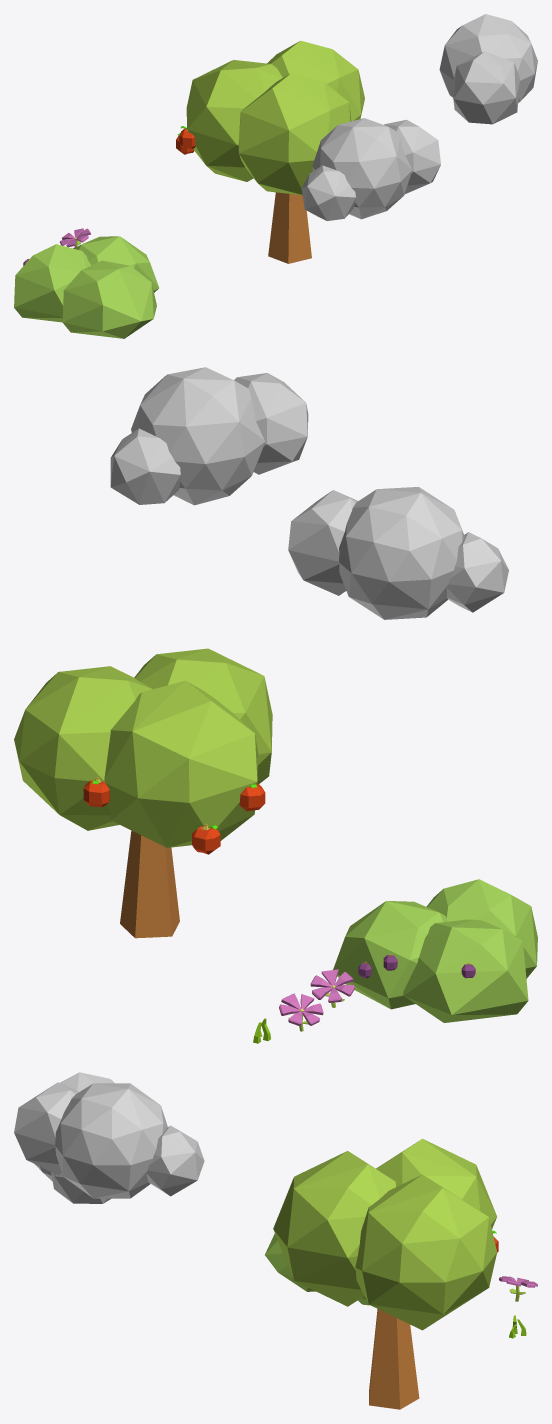
3 views of the same model, one above another, from view 1: azimuth 30°, elevation 25°; view 2: azimuth 150°, elevation 25°; view 3: azimuth 270°, elevation 25° (orthographic). The views are drawn at different scales.
Visible parts, largest first — view 1: Apple_Tree, Bush, Cloud.001, Cloud; view 2: Apple_Tree, Cloud.001, Bush, Cloud, Flower.001, Flower; view 3: Apple_Tree, Cloud, Cloud.001, Bush.
Boxes of the visible parts, x1,y1,x2,y2 form: Apple_Tree: (186, 40, 364, 263); Bush: (14, 236, 159, 338); Cloud.001: (301, 118, 440, 220); Cloud: (439, 14, 537, 124); Apple_Tree: (14, 648, 272, 938); Cloud.001: (288, 487, 508, 619); Bush: (333, 879, 537, 1022); Cloud: (110, 367, 308, 505); Flower.001: (310, 969, 354, 1007); Flower: (279, 993, 323, 1031); Apple_Tree: (273, 1138, 496, 1409); Cloud: (14, 1082, 204, 1198); Cloud.001: (35, 1072, 114, 1203); Bush: (265, 1233, 369, 1305).
Bounding box in the file's own units: 866 × 916 × 682.
